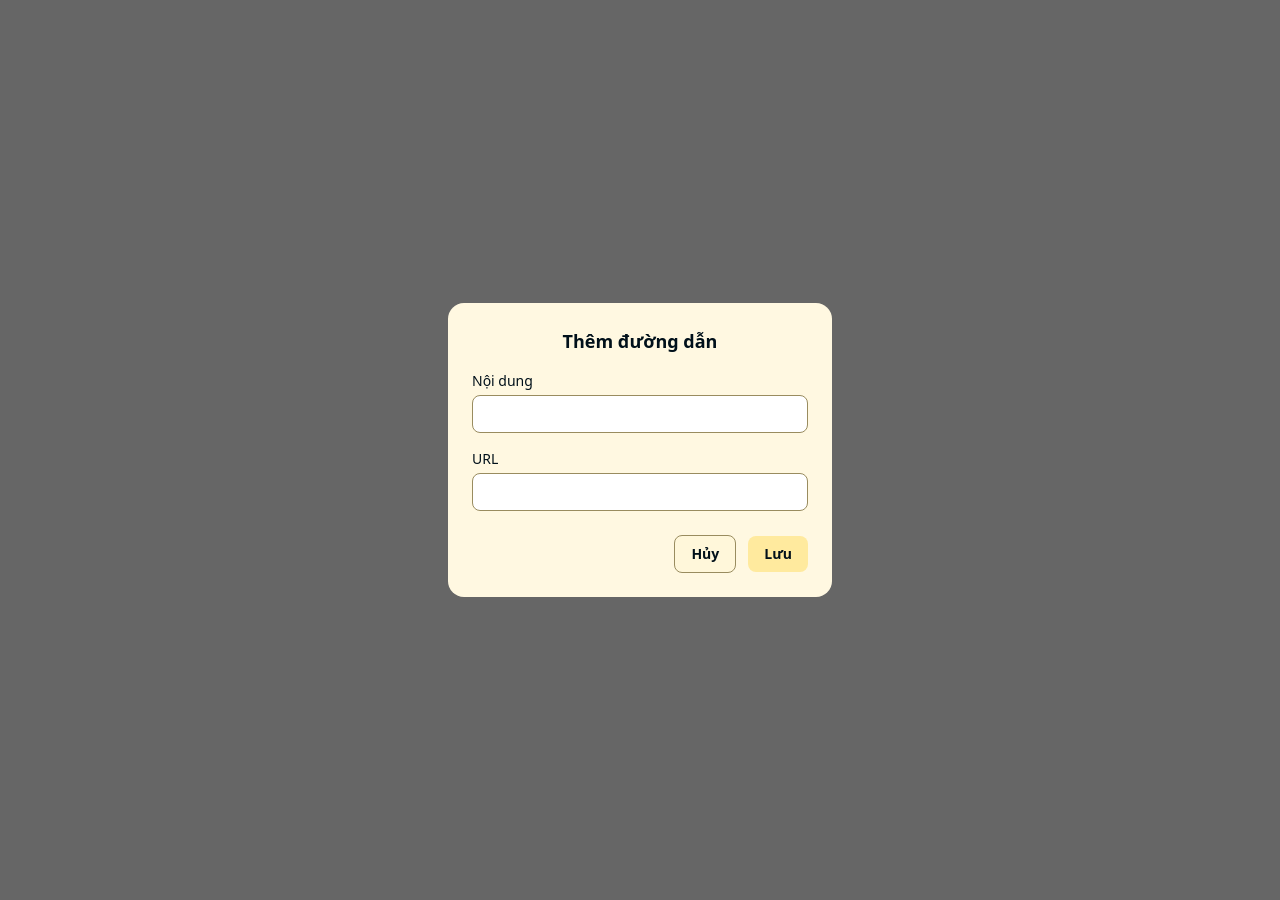
Test case: InsertLinkDialog › clears a previous error once the user edits the URL field again
The image size is (1280, 900).
Click the button "Lưu" at (778, 554), box [748,536,808,572]
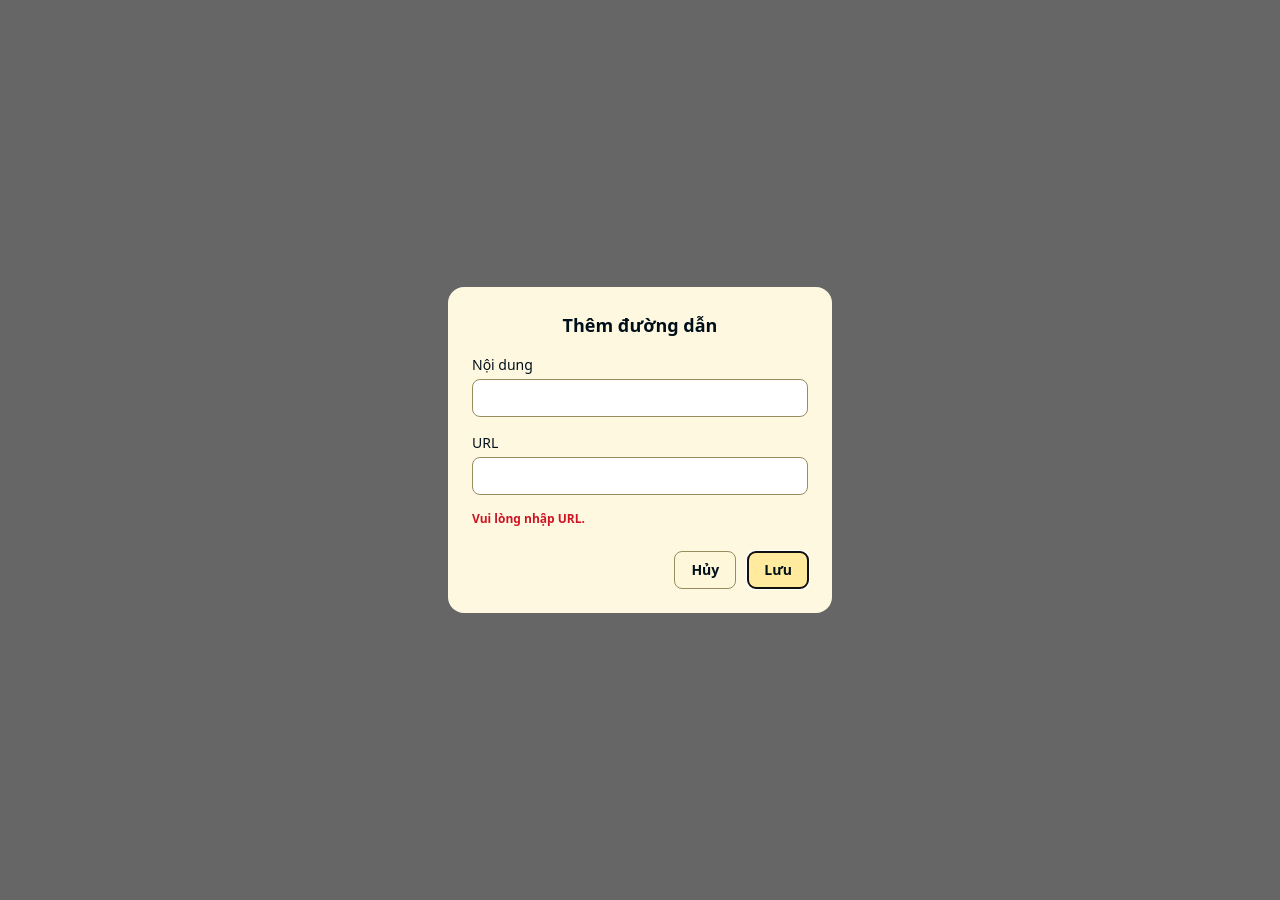
Now the text "Vui lòng nhập URL." is shown, box [472,510,585,527]
Type "h" into the field labelled "URL" at (640, 476), box [472,457,808,495]
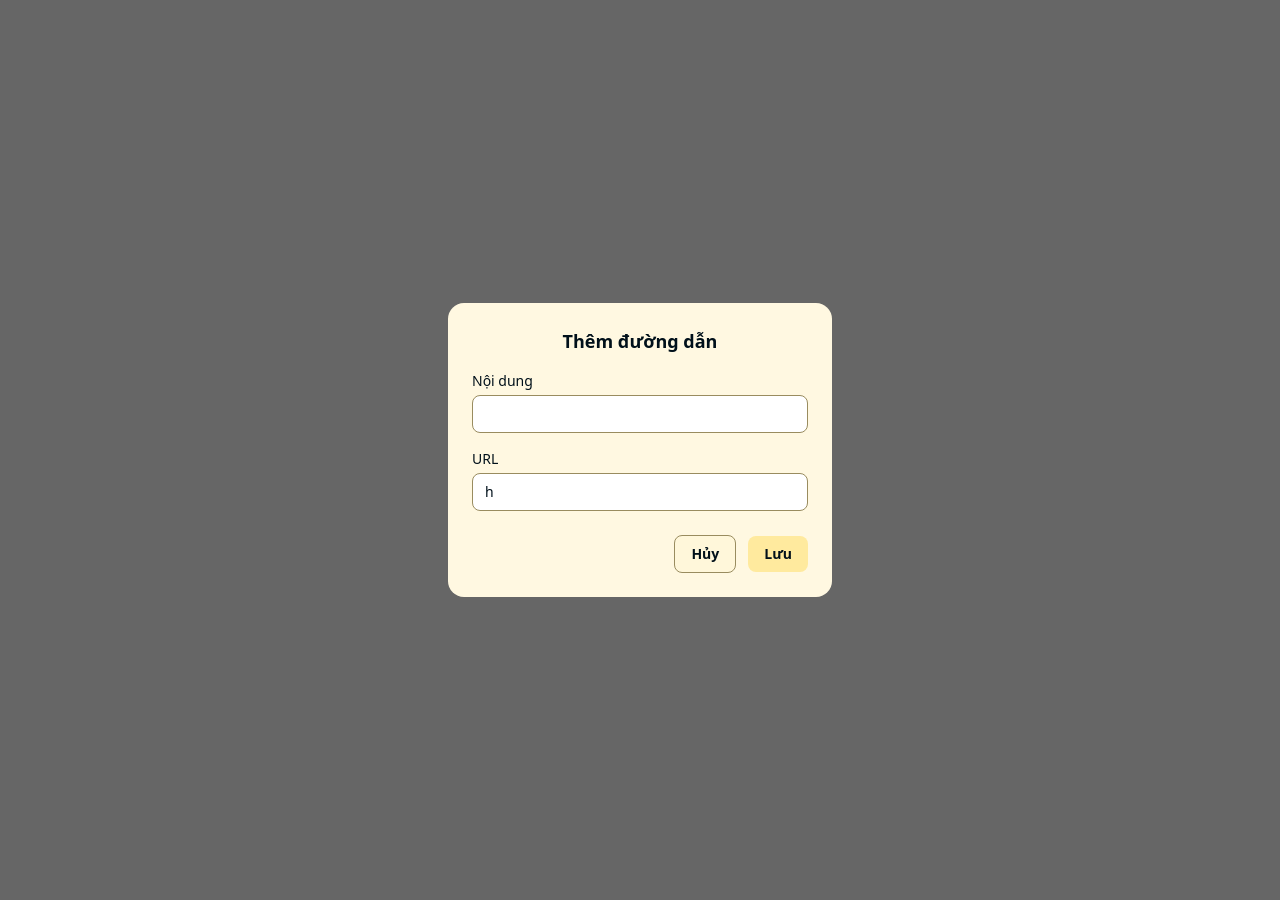
Now the text "Vui lòng nhập URL." is gone
